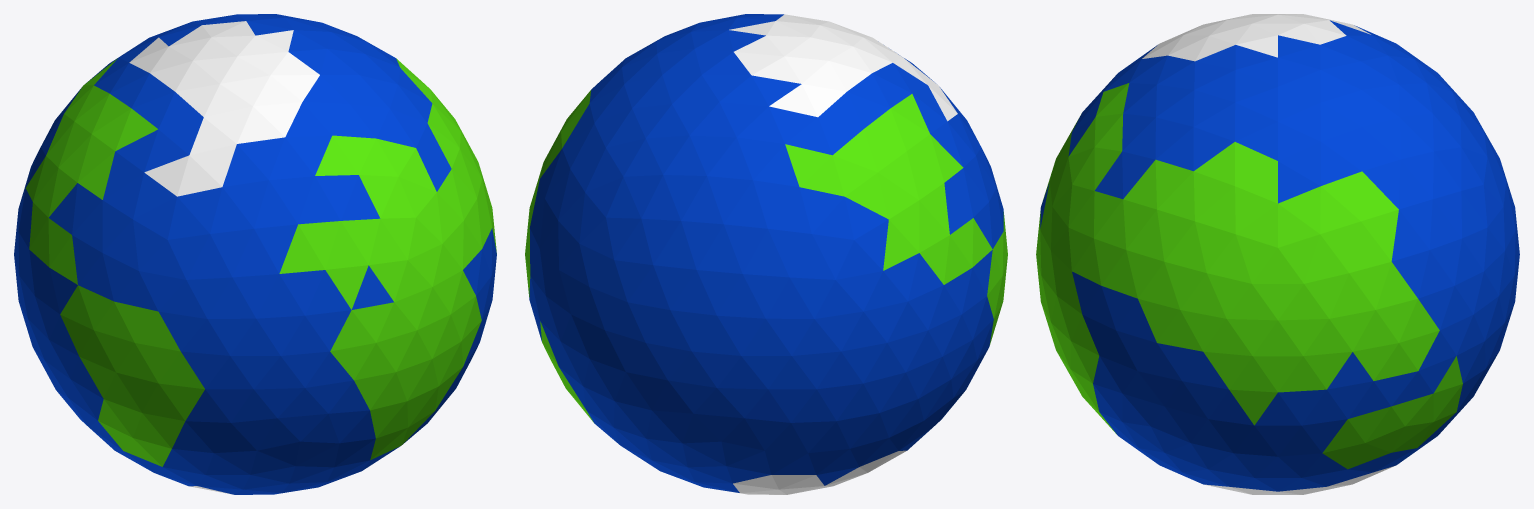
Rendered from EarthHighRes.FBX.
3 views of the same model, side by side, from view 1: azimuth 30°, elevation 25°; view 2: azimuth 150°, elevation 25°; view 3: azimuth 270°, elevation 25° (orthographic).
Visible parts, largest first — view 1: GeoSphere003; view 2: GeoSphere003; view 3: GeoSphere003.
Part boxes in pixels (x1,y1,x2,y2): GeoSphere003: (14,14,496,494); GeoSphere003: (525,14,1007,494); GeoSphere003: (1036,14,1519,494).
Bounding box in the file's own units: 83.54 × 84 × 84.
